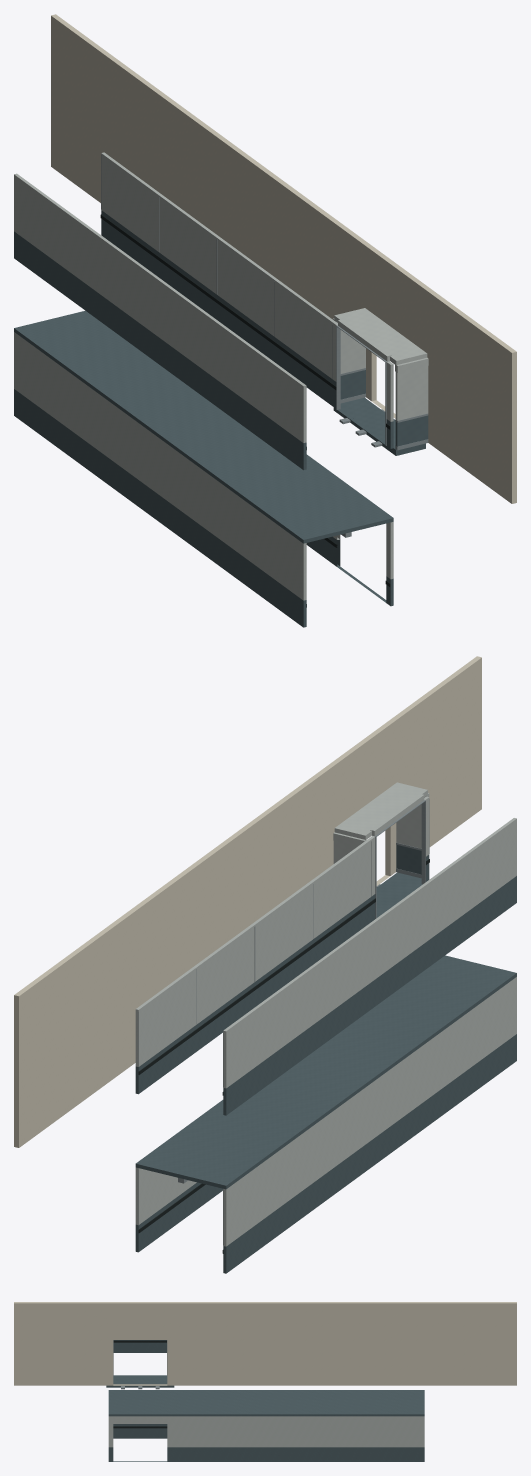
Rendered from ARRIVALS_UPPER_STAFF_RECEIVER_r001.glb.
3 renders of one model, top to bottom at view 1: azimuth 30°, elevation 25°; view 2: azimuth 150°, elevation 25°; view 3: azimuth 270°, elevation 25°, orthographic. The views are drawn at different scales.
Visible parts, largest first — view 1: ARR_WestServiceEnclosure_-465.85_ARRIVALS_STAFF_GATEWAY, HOME_BATCH_173_ASTRAEA_staff_white_paint_ARRIVALS_STAFF_GAT, HOME_BATCH_006_ASTRAEA_staff_bluegrey_paint_ARRIVALS_STAFF_, ORX_BATCH_001, ORX_BATCH_000, ORX_BATCH_003, HOME_BATCH_123_ASTRAEA_staff_rubber_ARRIVALS_STAFF_GATEWAY_A; view 2: ARR_WestServiceEnclosure_-465.85_ARRIVALS_STAFF_GATEWAY, HOME_BATCH_173_ASTRAEA_staff_white_paint_ARRIVALS_STAFF_GAT, HOME_BATCH_006_ASTRAEA_staff_bluegrey_paint_ARRIVALS_STAFF_, ORX_BATCH_001, ORX_BATCH_000, HOME_BATCH_123_ASTRAEA_staff_rubber_ARRIVALS_STAFF_GATEWAY_A, ORX_BATCH_003; view 3: ARR_WestServiceEnclosure_-465.85_ARRIVALS_STAFF_GATEWAY, HOME_BATCH_006_ASTRAEA_staff_bluegrey_paint_ARRIVALS_STAFF_, HOME_BATCH_173_ASTRAEA_staff_white_paint_ARRIVALS_STAFF_GAT, ORX_BATCH_000, HOME_BATCH_123_ASTRAEA_staff_rubber_ARRIVALS_STAFF_GATEWAY_A.
Part boxes in pixels (x1,y1,x2,y2): ARR_WestServiceEnclosure_-465.85_ARRIVALS_STAFF_GATEWAY: (51,14,516,503); HOME_BATCH_173_ASTRAEA_staff_white_paint_ARRIVALS_STAFF_GAT: (14,152,393,600); HOME_BATCH_006_ASTRAEA_staff_bluegrey_paint_ARRIVALS_STAFF_: (14,210,393,627); ORX_BATCH_001: (333,308,428,420); ORX_BATCH_000: (333,370,428,455); ORX_BATCH_003: (336,325,428,450); HOME_BATCH_123_ASTRAEA_staff_rubber_ARRIVALS_STAFF_GATEWAY_A: (100,214,390,607); ARR_WestServiceEnclosure_-465.85_ARRIVALS_STAFF_GATEWAY: (14,656,481,1147); HOME_BATCH_173_ASTRAEA_staff_white_paint_ARRIVALS_STAFF_GAT: (135,796,516,1246); HOME_BATCH_006_ASTRAEA_staff_bluegrey_paint_ARRIVALS_STAFF_: (135,854,516,1273); ORX_BATCH_001: (333,782,429,863); ORX_BATCH_000: (376,844,421,916); HOME_BATCH_123_ASTRAEA_staff_rubber_ARRIVALS_STAFF_GATEWAY_A: (138,859,429,1253); ORX_BATCH_003: (375,800,425,918); ARR_WestServiceEnclosure_-465.85_ARRIVALS_STAFF_GATEWAY: (14,1302,516,1385); HOME_BATCH_006_ASTRAEA_staff_bluegrey_paint_ARRIVALS_STAFF_: (108,1340,424,1461); HOME_BATCH_173_ASTRAEA_staff_white_paint_ARRIVALS_STAFF_GAT: (108,1416,424,1447); ORX_BATCH_000: (106,1376,174,1387); HOME_BATCH_123_ASTRAEA_staff_rubber_ARRIVALS_STAFF_GATEWAY_A: (113,1340,167,1428).
Size of the model in its own units: 5.1 by 11.76 by 31.85.
Materials: 8 (7 with a texture image).
